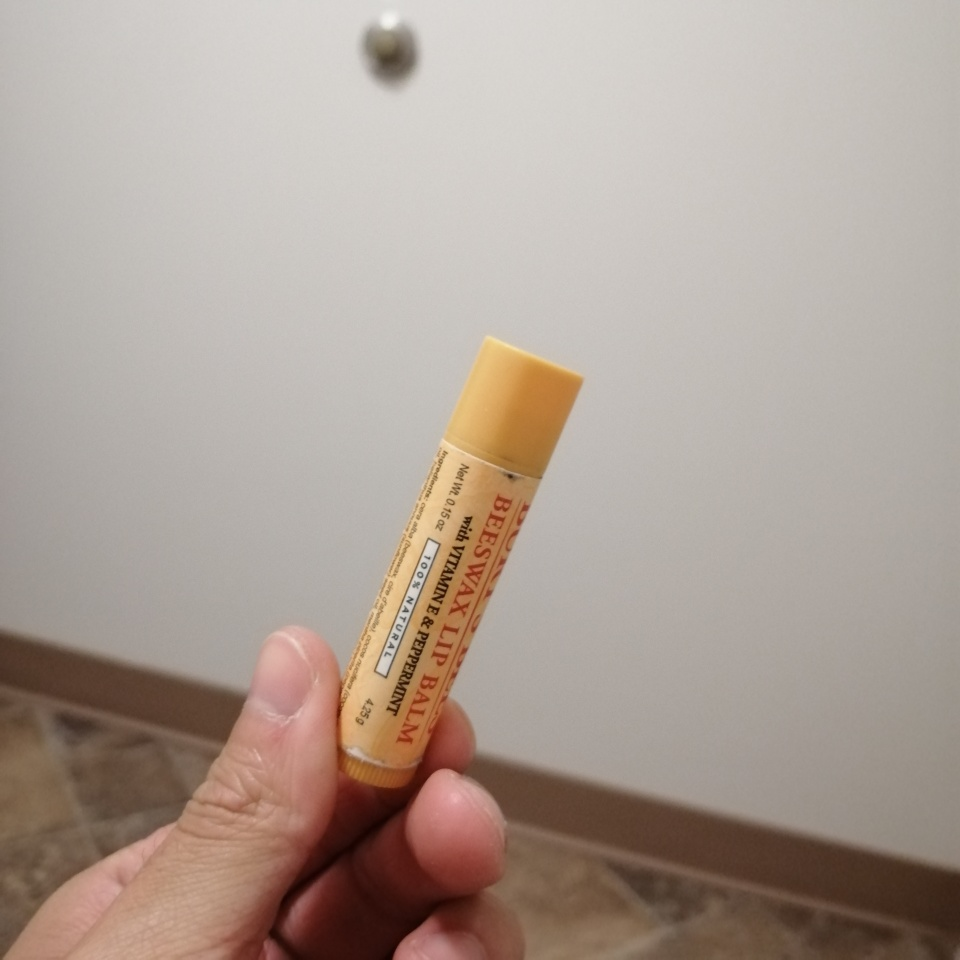chapstick: (327, 334, 585, 788)
